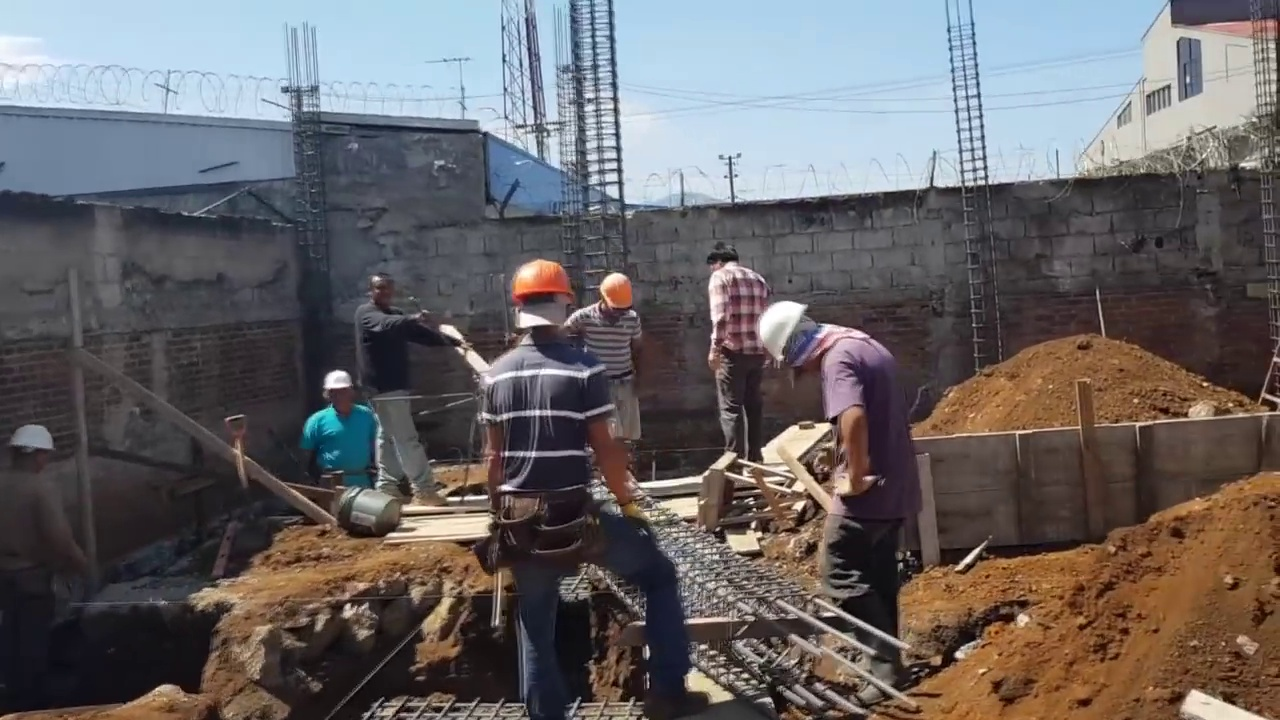helmet: (511, 261, 575, 307), (766, 292, 802, 369), (2, 428, 47, 458), (600, 273, 636, 309), (324, 373, 348, 397)
helmet-off: (710, 242, 742, 272), (364, 274, 392, 305)
helmet-on: (509, 263, 576, 347), (767, 296, 832, 365), (0, 425, 57, 484), (594, 267, 638, 321), (321, 369, 361, 418)
person: (481, 247, 658, 697), (764, 299, 915, 673), (356, 274, 463, 504), (0, 432, 76, 693), (703, 252, 781, 501), (582, 260, 648, 498), (300, 365, 380, 494)
